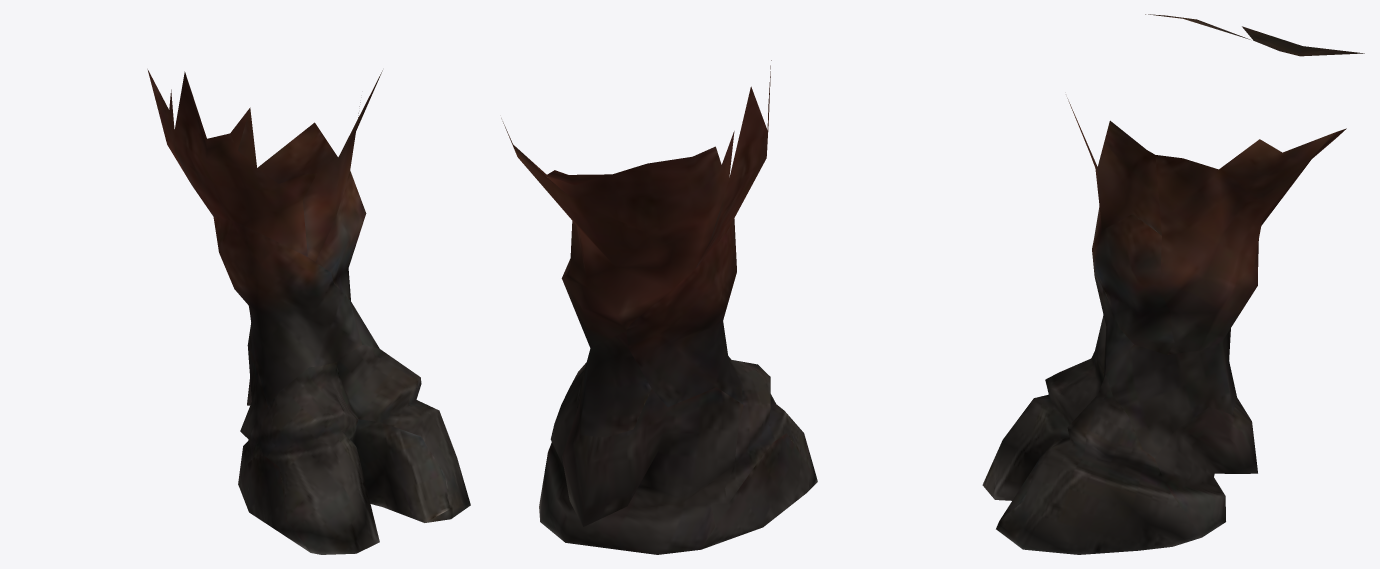
File: gorehorn_leg_fposx.glb
The picture shows the model from 3 angles, left to right: view 1: azimuth 30°, elevation 25°; view 2: azimuth 150°, elevation 25°; view 3: azimuth 270°, elevation 25°; orthographic projection. The views are drawn at different scales.
Parts seen in each view (by area): view 1: gorehorn_leg_fposx; view 2: gorehorn_leg_fposx; view 3: gorehorn_leg_fposx.
Boxes of the visible parts, x1,y1,x2,y2 form: gorehorn_leg_fposx: (147, 69, 470, 554); gorehorn_leg_fposx: (501, 60, 817, 554); gorehorn_leg_fposx: (982, 14, 1364, 554).
Bounding box in the file's own units: 2.73 × 2.84 × 2.38.
1 material, 1 textured.
